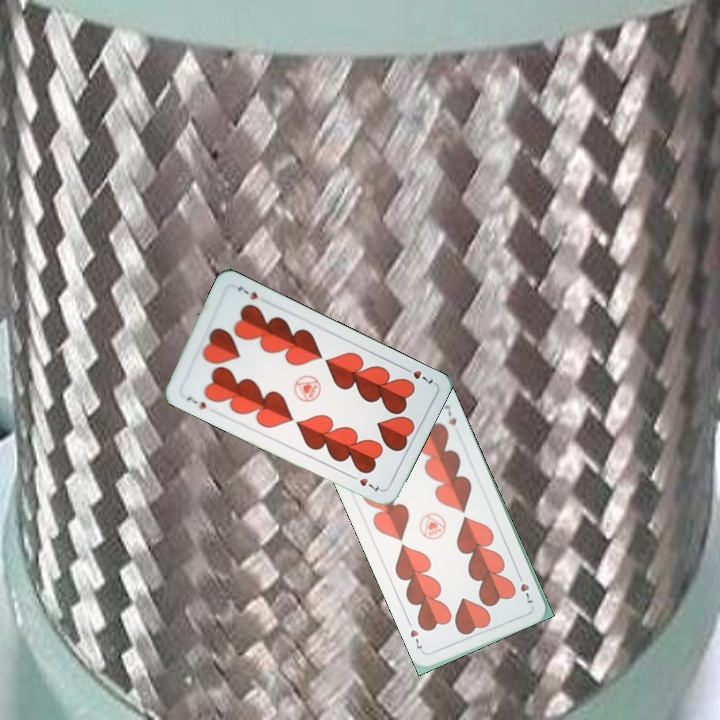H7: (399, 363, 436, 387), (513, 569, 535, 606), (182, 392, 211, 413)
